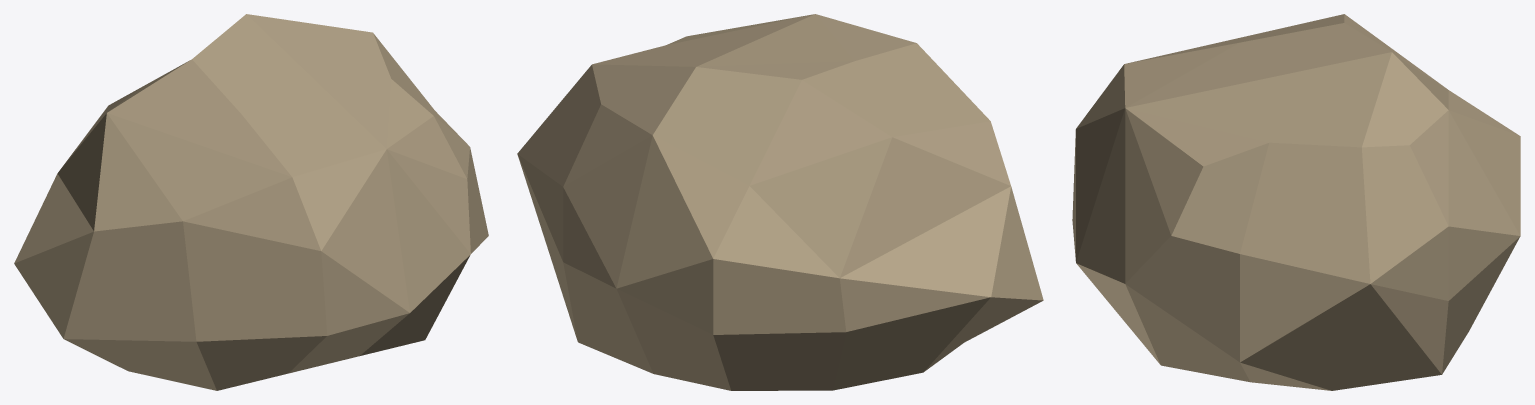
File: Boulder-A06.fbx
3 renders of one model, left to right at view 1: azimuth 30°, elevation 25°; view 2: azimuth 150°, elevation 25°; view 3: azimuth 270°, elevation 25°, orthographic. The views are drawn at different scales.
Visible parts, largest first — view 1: Boulder-A06; view 2: Boulder-A06; view 3: Boulder-A06.
Part boxes in pixels (bbox=[...]): Boulder-A06: bbox=[14, 14, 488, 390]; Boulder-A06: bbox=[517, 14, 1043, 390]; Boulder-A06: bbox=[1072, 14, 1520, 390].
Size of the model in its own units: 145 by 84.16 by 123.
